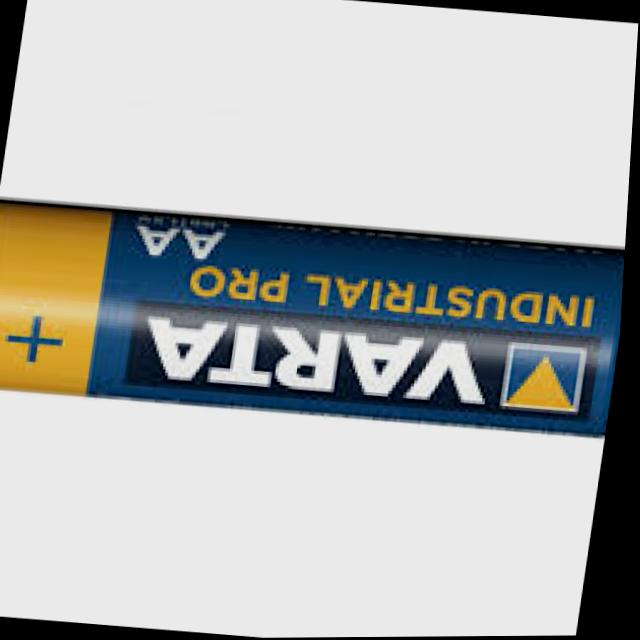B3: (0, 87, 636, 478)
